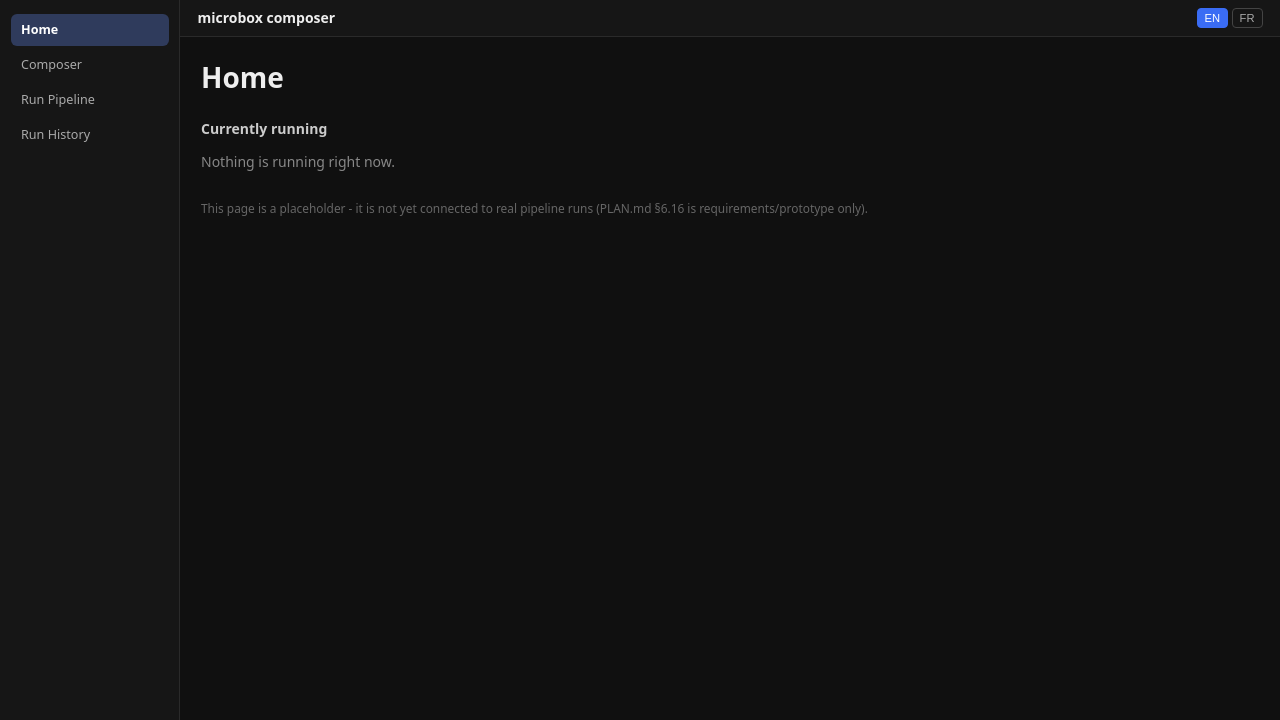
Test: App routing › clicking Composer in the left page nav actually navigates there - a real route change
expect the heading "Home" is shown: met, box [201,58,284,96]
What coordinates should you click on to do the following:
click the link "Composer"
I would click on:
 (52, 65)
Its box is [21,56,82,73].
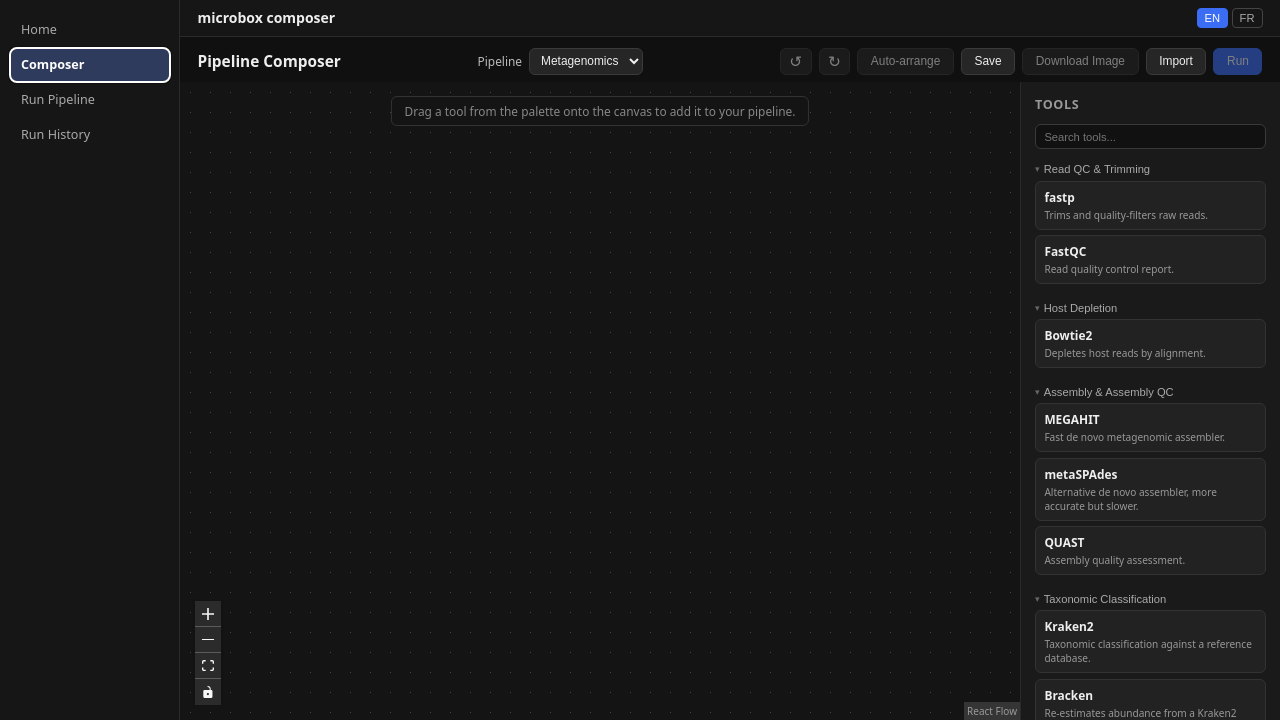
expect the heading "Pipeline Composer" is shown: met, box [198,51,341,72]
